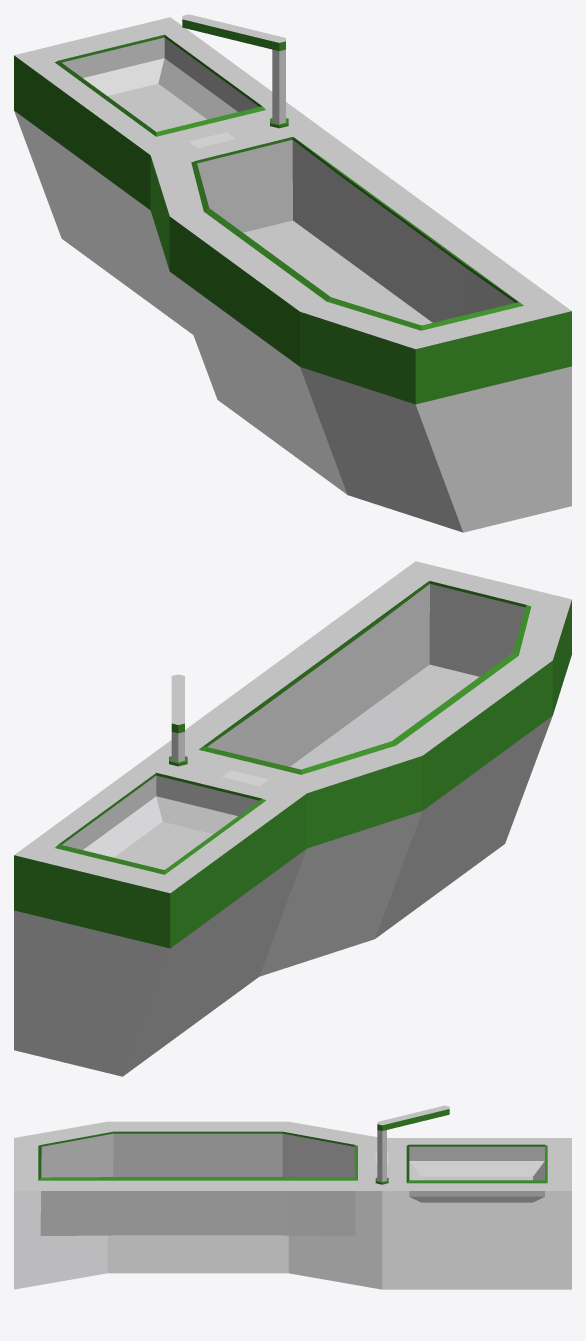
File: Surgical_Sink.fbx
3 views of the same model, one above another, from view 1: azimuth 30°, elevation 25°; view 2: azimuth 150°, elevation 25°; view 3: azimuth 270°, elevation 25° (orthographic). The views are drawn at different scales.
Parts seen in each view (by area): view 1: Surgical_Sink; view 2: Surgical_Sink; view 3: Surgical_Sink.
Part boxes in pixels (<box>): Surgical_Sink: <box>14,14,571,532</box>; Surgical_Sink: <box>14,561,571,1076</box>; Surgical_Sink: <box>14,1105,571,1289</box>.
Size of the model in its own units: 1.75 by 5.96 by 2.29.
